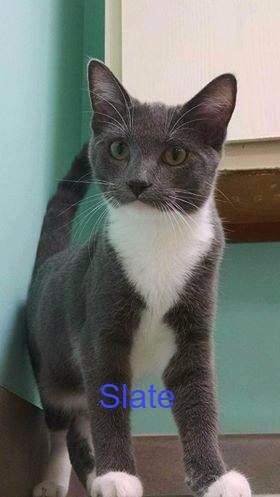rblue: (62, 39, 249, 241)
